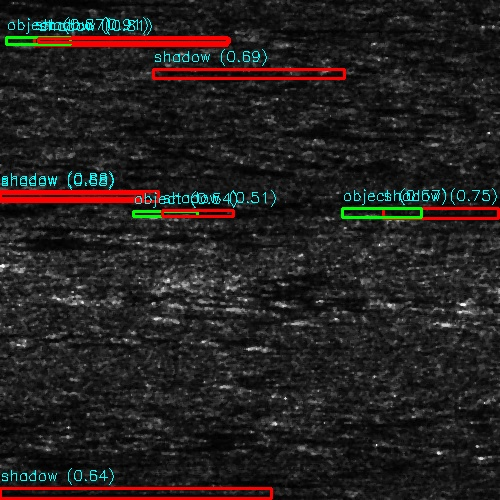rock: (333, 208, 416, 219), (133, 209, 226, 216), (120, 65, 173, 76), (262, 317, 335, 324), (12, 0, 53, 5), (461, 304, 500, 309), (0, 259, 32, 264), (245, 342, 276, 347), (23, 39, 64, 42), (490, 245, 500, 250)
shadow: (147, 65, 327, 76), (0, 190, 134, 201), (375, 208, 500, 219), (44, 39, 219, 42), (299, 317, 365, 324), (180, 209, 241, 216), (261, 342, 327, 347), (12, 259, 73, 264), (33, 0, 92, 5), (277, 26, 339, 29)
